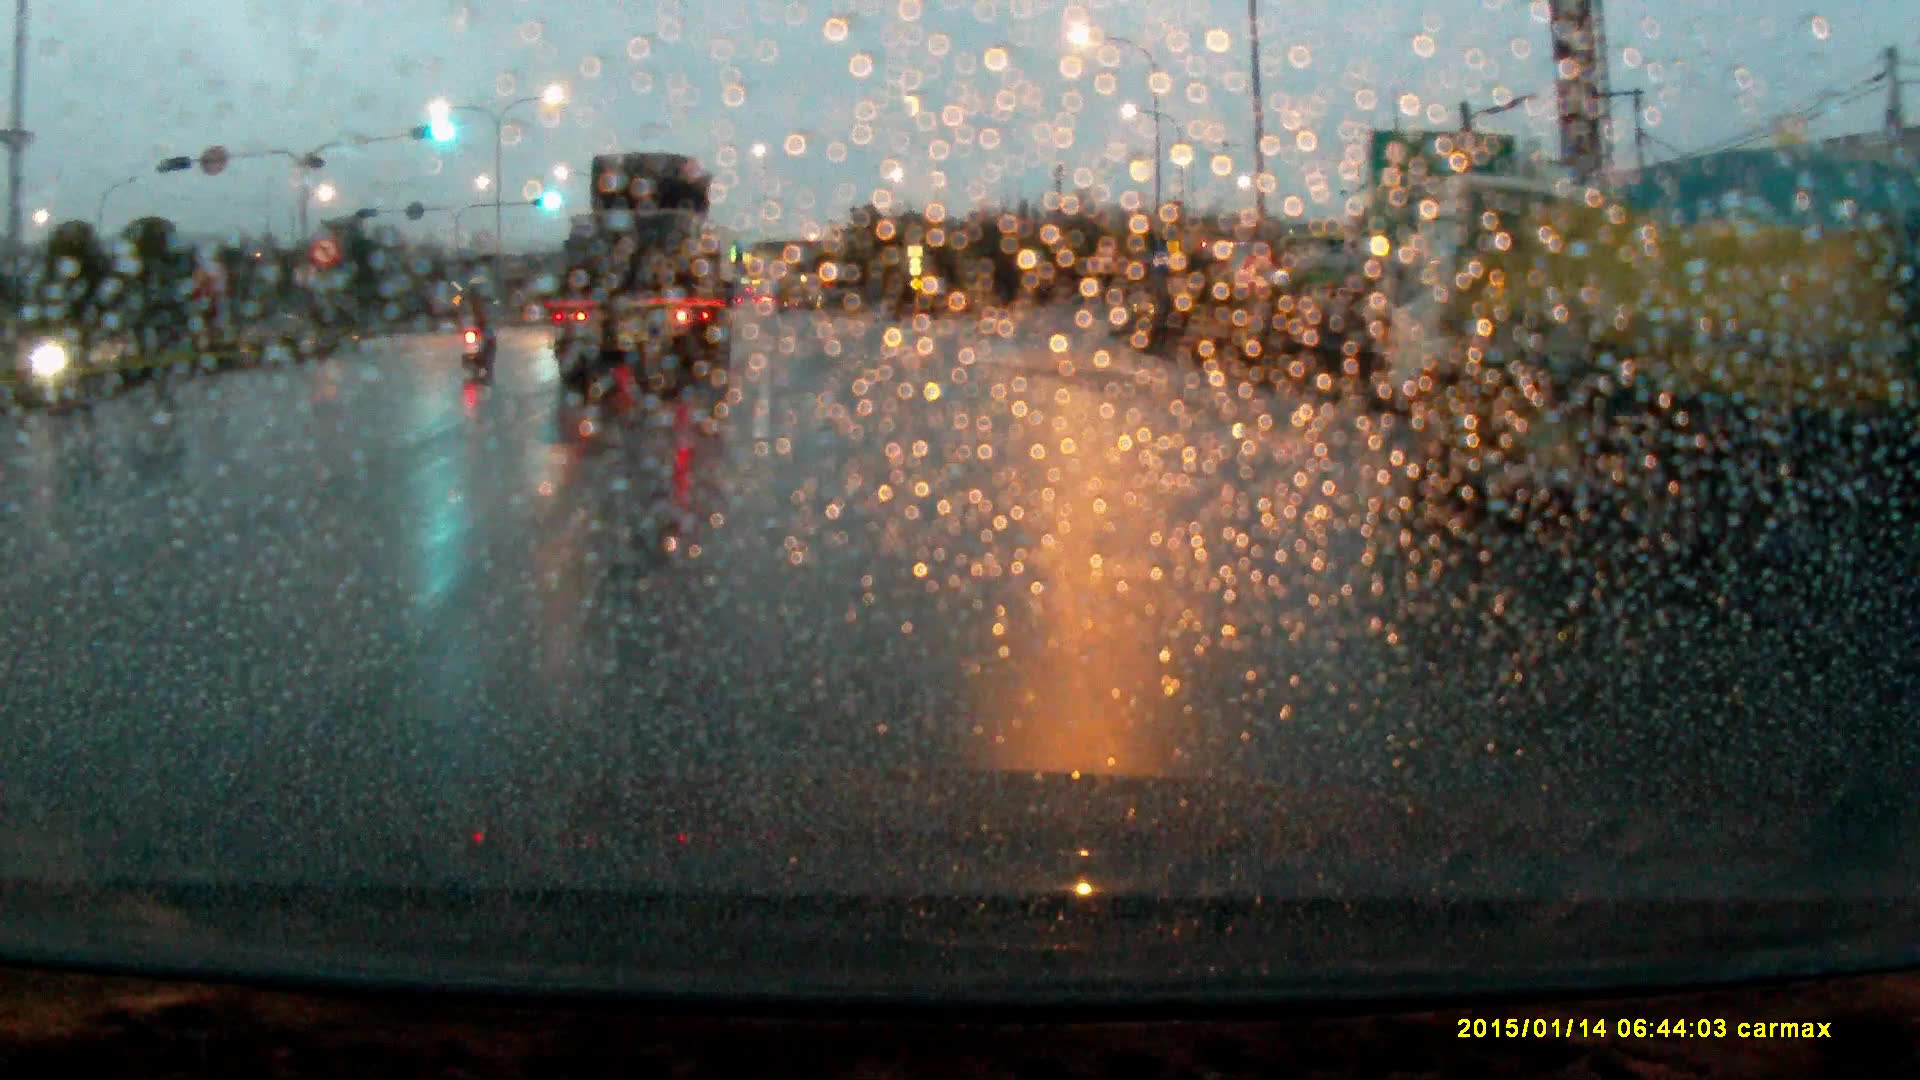rider: (453, 273, 502, 382)
vehicle: (1382, 150, 1920, 568), (547, 153, 736, 405)
